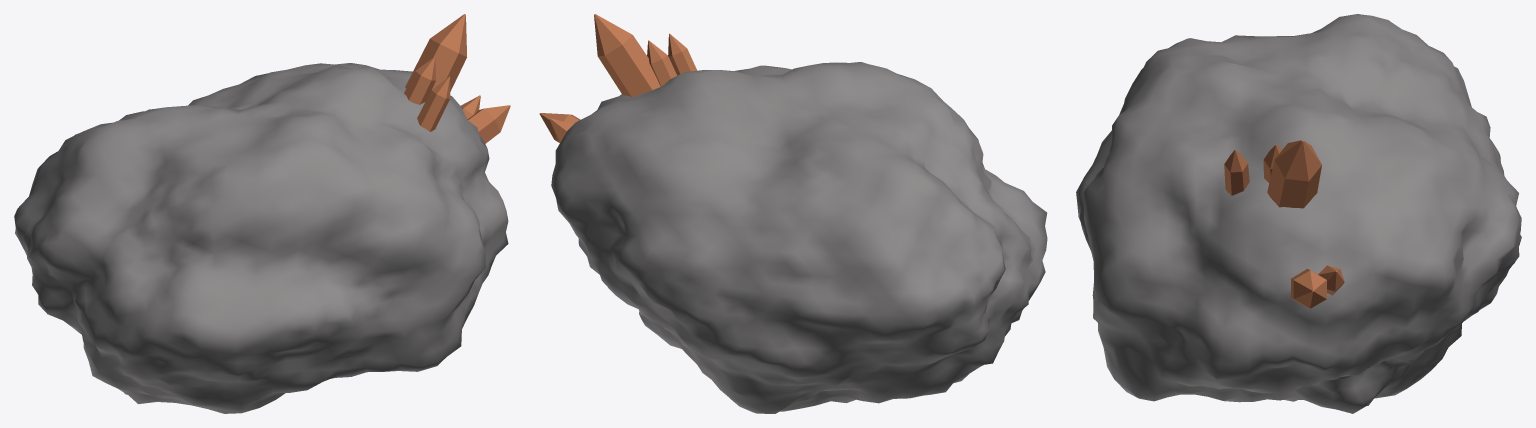
The model's file is monazite_surface.glb.
The picture shows the model from 3 angles, left to right: view 1: azimuth 30°, elevation 25°; view 2: azimuth 150°, elevation 25°; view 3: azimuth 270°, elevation 25°; orthographic projection. The views are drawn at different scales.
Parts seen in each view (by area): view 1: monazite_surface; view 2: monazite_surface; view 3: monazite_surface.
Boxes of the visible parts, <box> form: monazite_surface: <box>14,14,510,413</box>; monazite_surface: <box>539,14,1047,413</box>; monazite_surface: <box>1076,14,1521,413</box>.
Bounding box in the file's own units: 1.46 × 0.9575 × 1.06.
